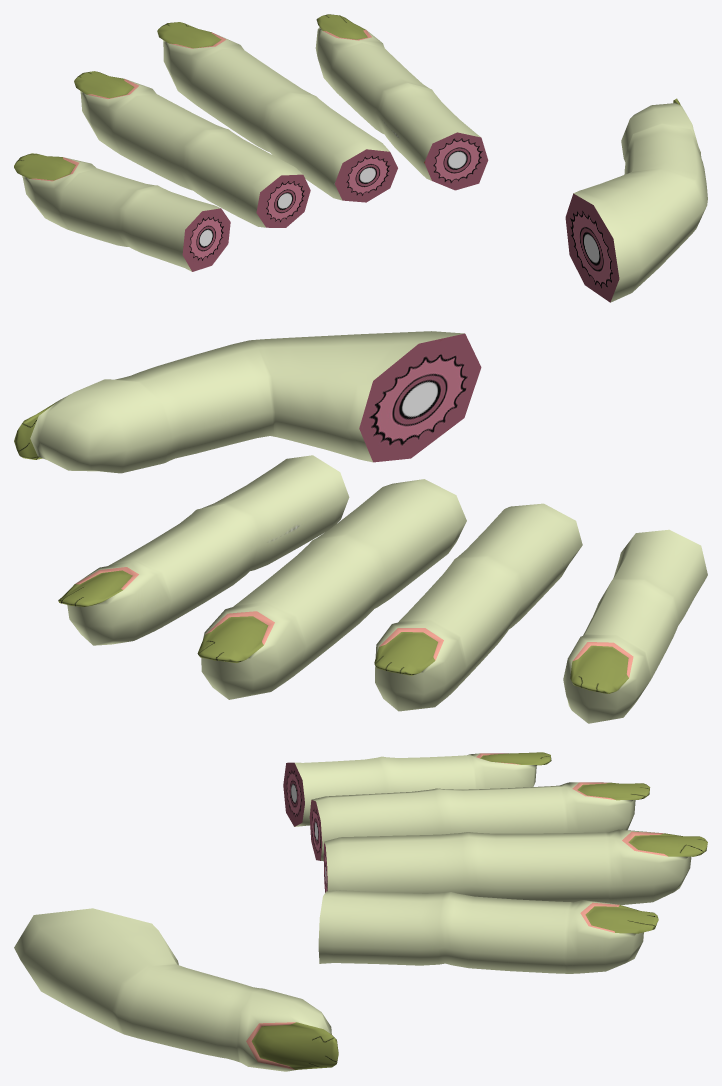
Rendered from handCut.fbx.
The picture shows the model from 3 angles, top to bottom: view 1: azimuth 30°, elevation 25°; view 2: azimuth 150°, elevation 25°; view 3: azimuth 270°, elevation 25°; orthographic projection. The views are drawn at different scales.
Parts seen in each view (by area): view 1: handCut; view 2: handCut; view 3: handCut.
Part boxes in pixels (<box>): handCut: <box>14,14,707,302</box>; handCut: <box>14,331,707,723</box>; handCut: <box>14,752,707,1071</box>.
Size of the model in its own units: 0.358 by 0.0566 by 0.3614.
Materials: 1 (1 with a texture image).
